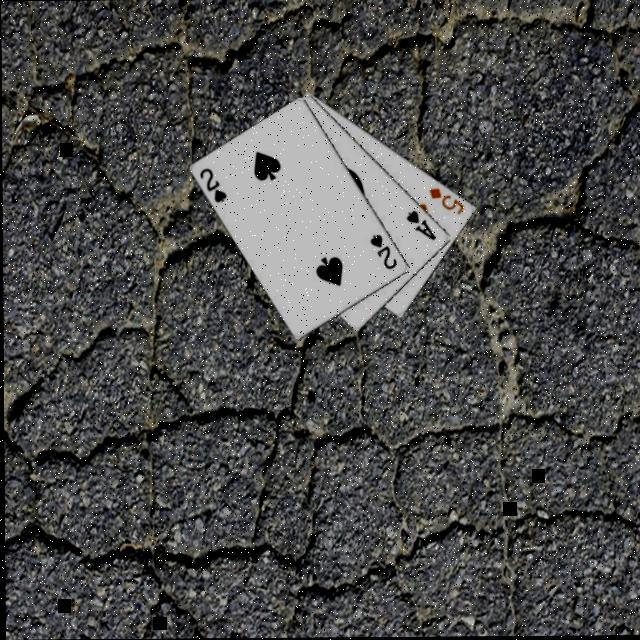2S: (197, 166, 230, 207), (368, 233, 400, 273)
5D: (427, 187, 468, 219)
AS: (404, 208, 440, 244)
